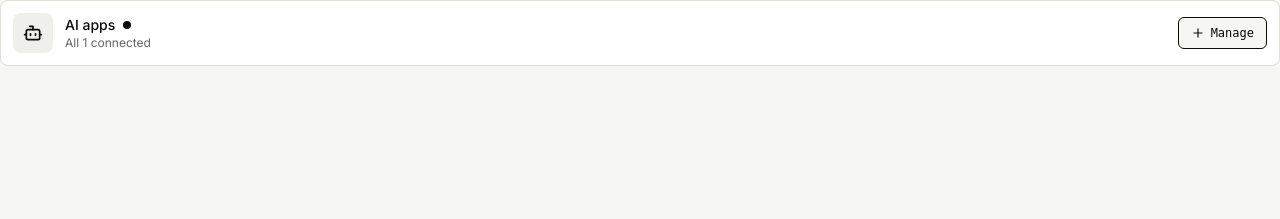
Test: AiToolsCard › shows Runner's required local-server step after configuration
Click the button "Manage": coordinates (1222, 33) x1=1178 y1=17 x2=1267 y2=49
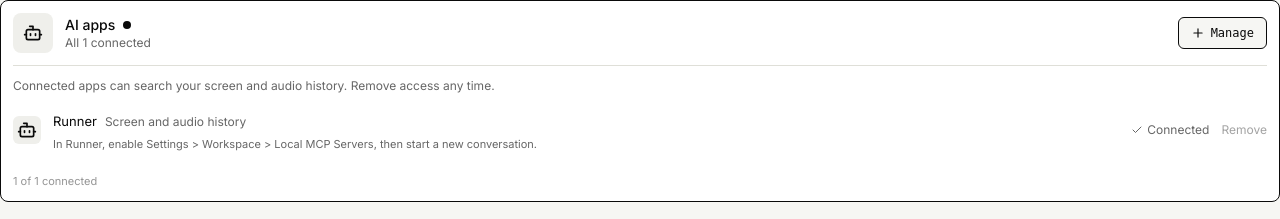
Now the text "enable Settings > Workspace > Local MCP Servers" is shown, box x1=53 y1=137 x2=537 y2=151
